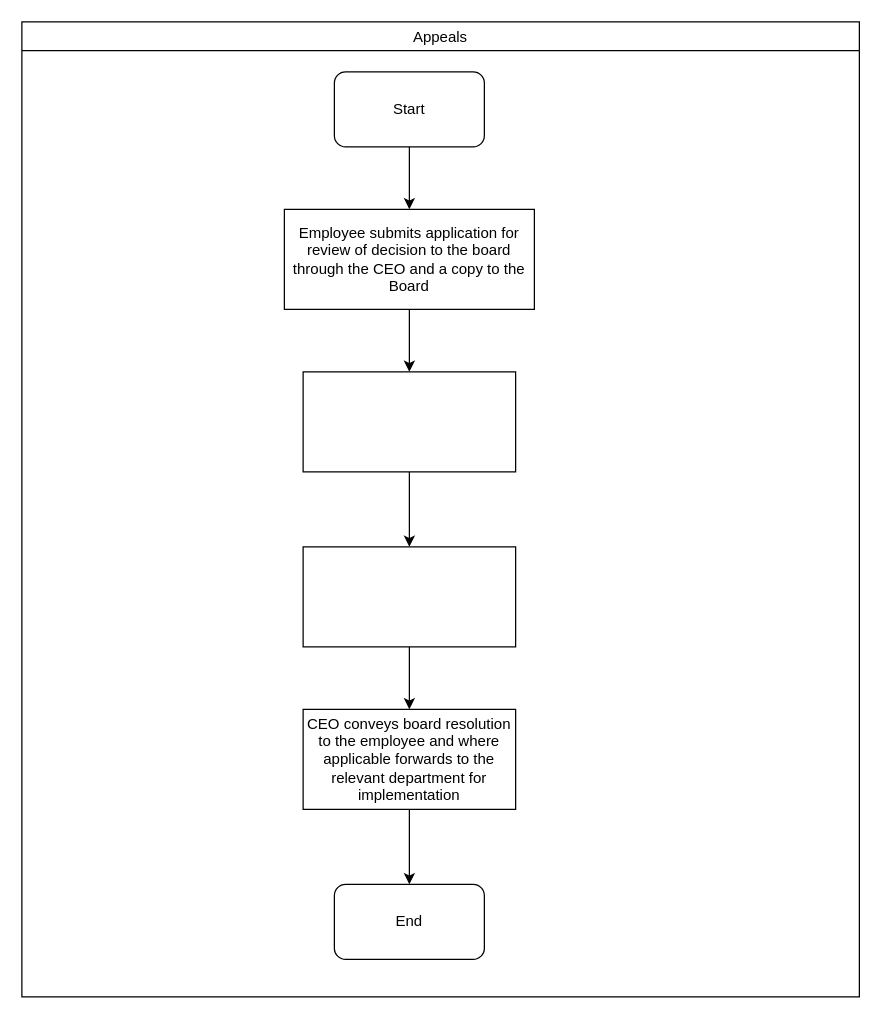
Some shapes in this 881 by 1019 pixel diagram are drawn without their labels. The box of each missing label's shape, as (x1, y1, x2, y2) in pixels:
Board discusses the appeal and makes recommendations: (302, 546, 516, 647)
CEO forwards the appeal with comments and recommendation to Board: (302, 371, 516, 472)
